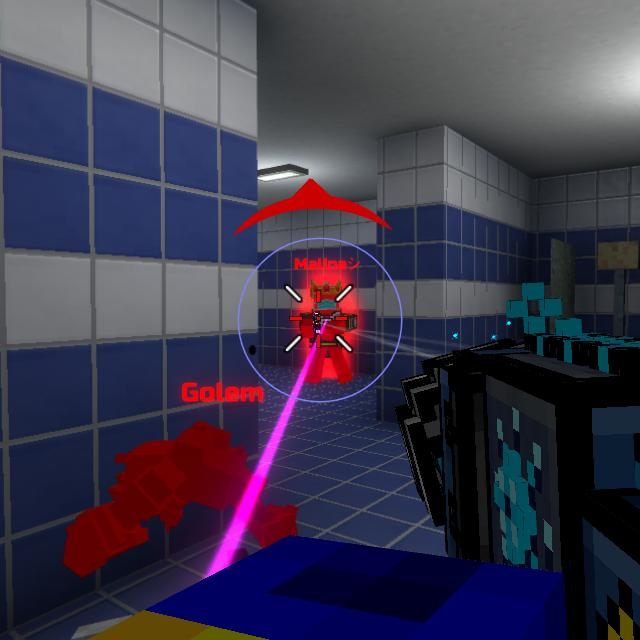Enemy: (299, 285, 359, 387)
